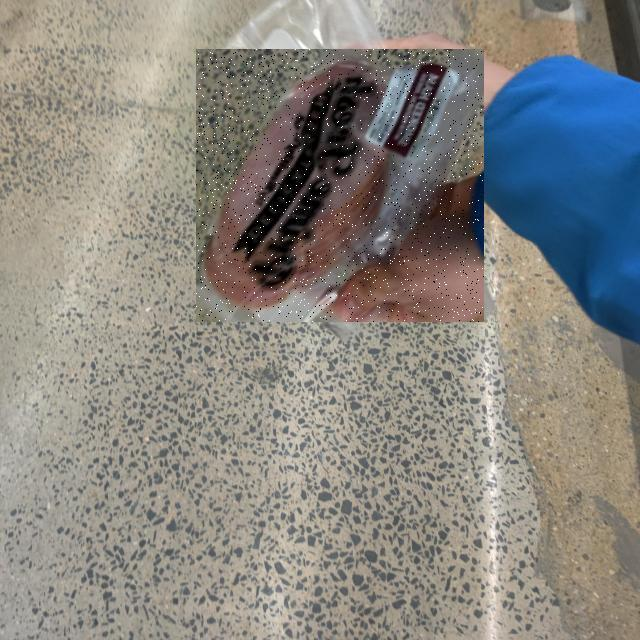Meat: (196, 49, 484, 322)
